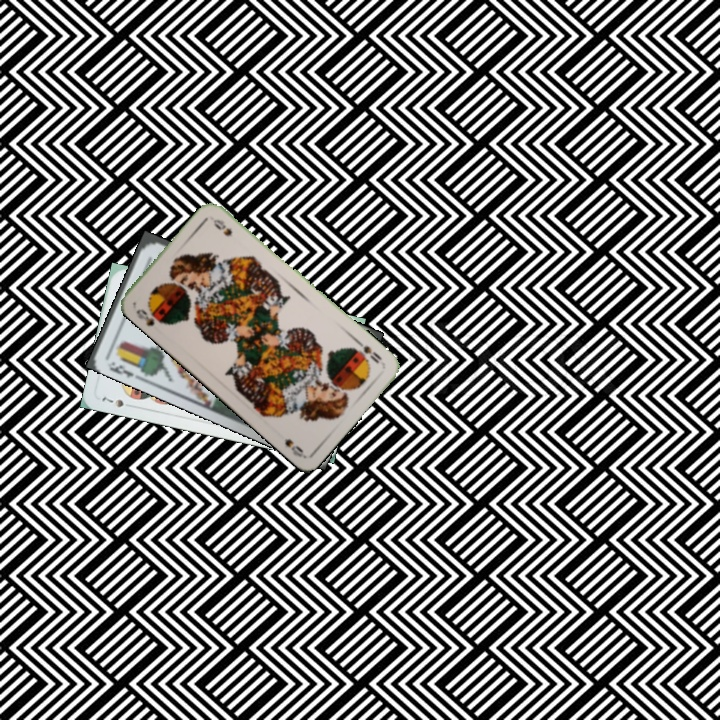EK: (105, 361, 136, 380)
S7: (97, 393, 126, 410)
SO: (349, 336, 385, 366), (132, 305, 169, 329)
